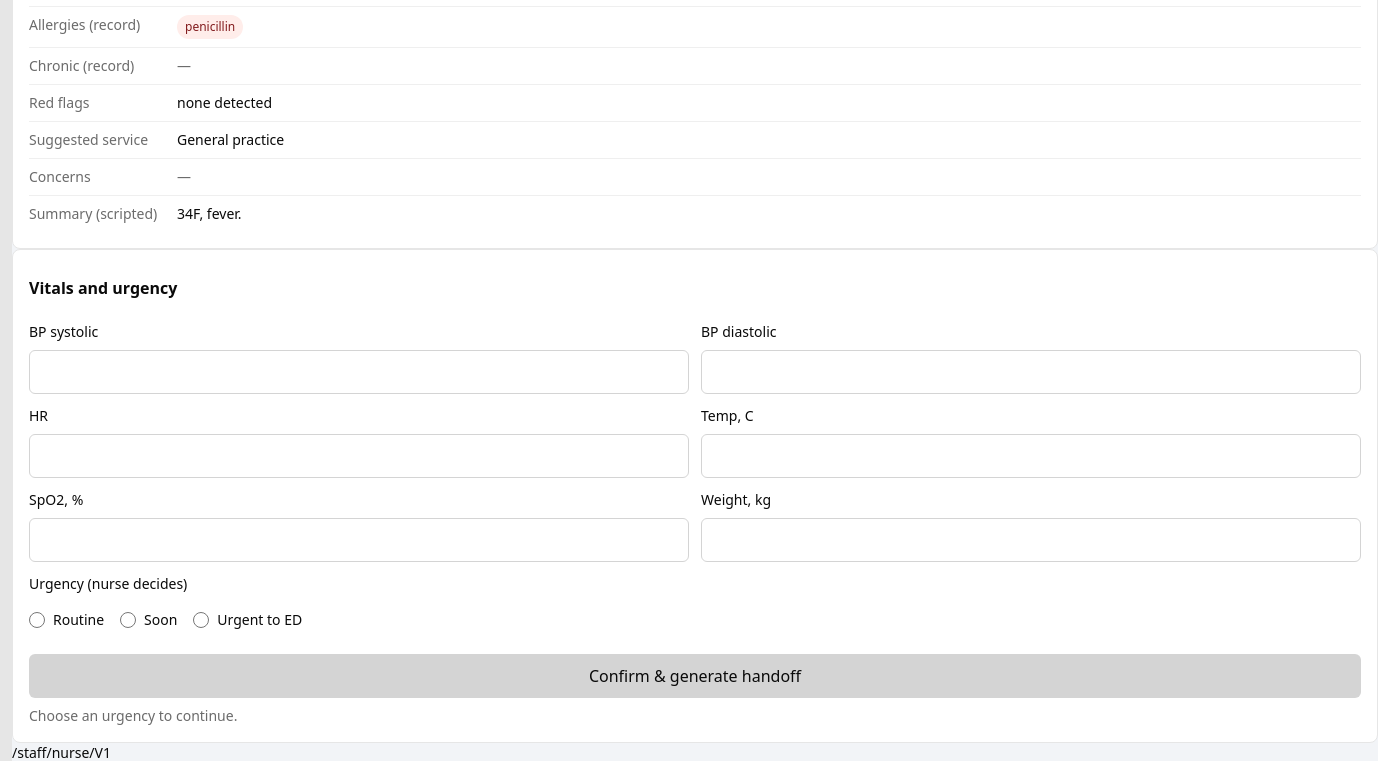
it: VitalsForm › with an edit left open on the intake card › holds the primary action and says why, then lets go on cancel
(page scrolled)
Click the radio button with test id "urgency-routine" at (37, 620), box [29, 612, 45, 628]
(page scrolled)
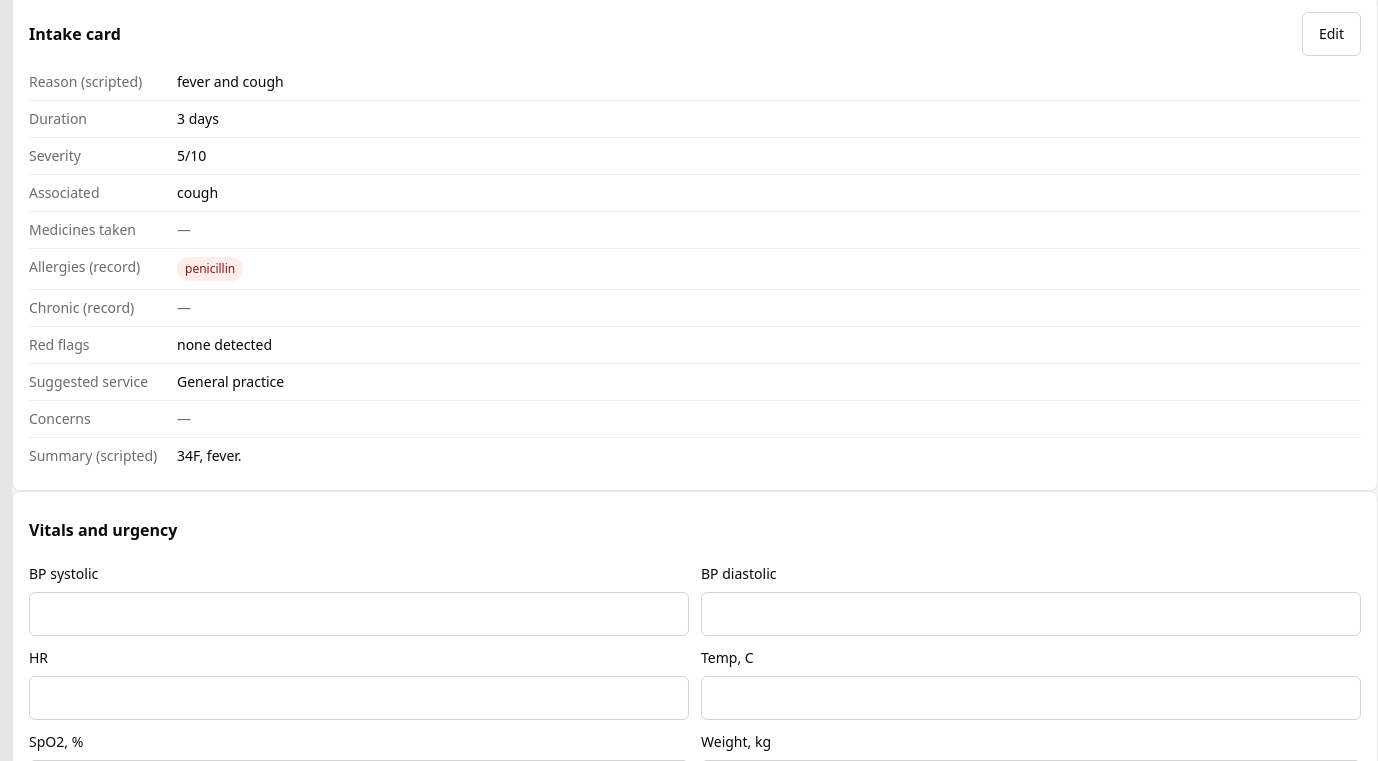
Click the button with test id "intake-edit" at (1331, 34), box [1302, 12, 1361, 56]
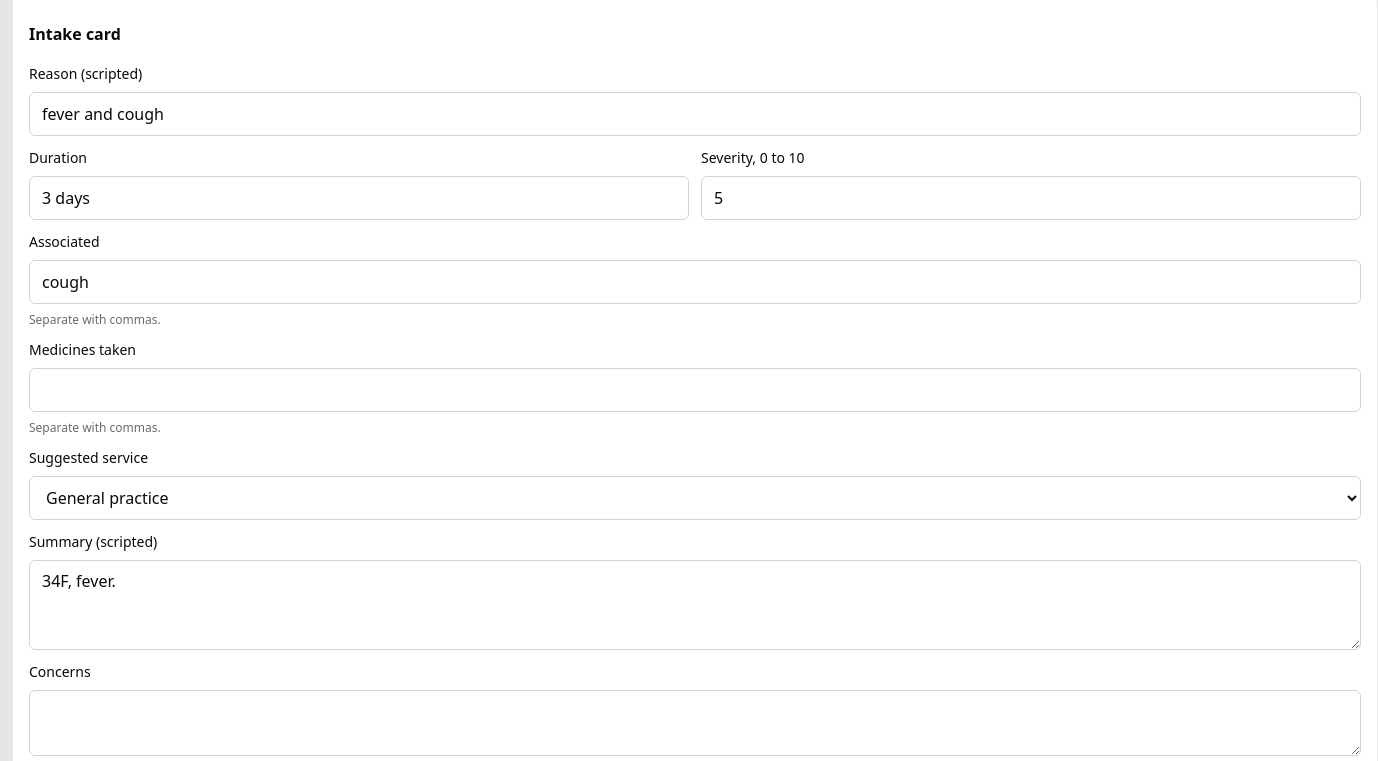
Replace the text in the field with test id "edit-chief_complaint" with "dry cough" at (695, 114), box [29, 92, 1361, 136]
(page scrolled)
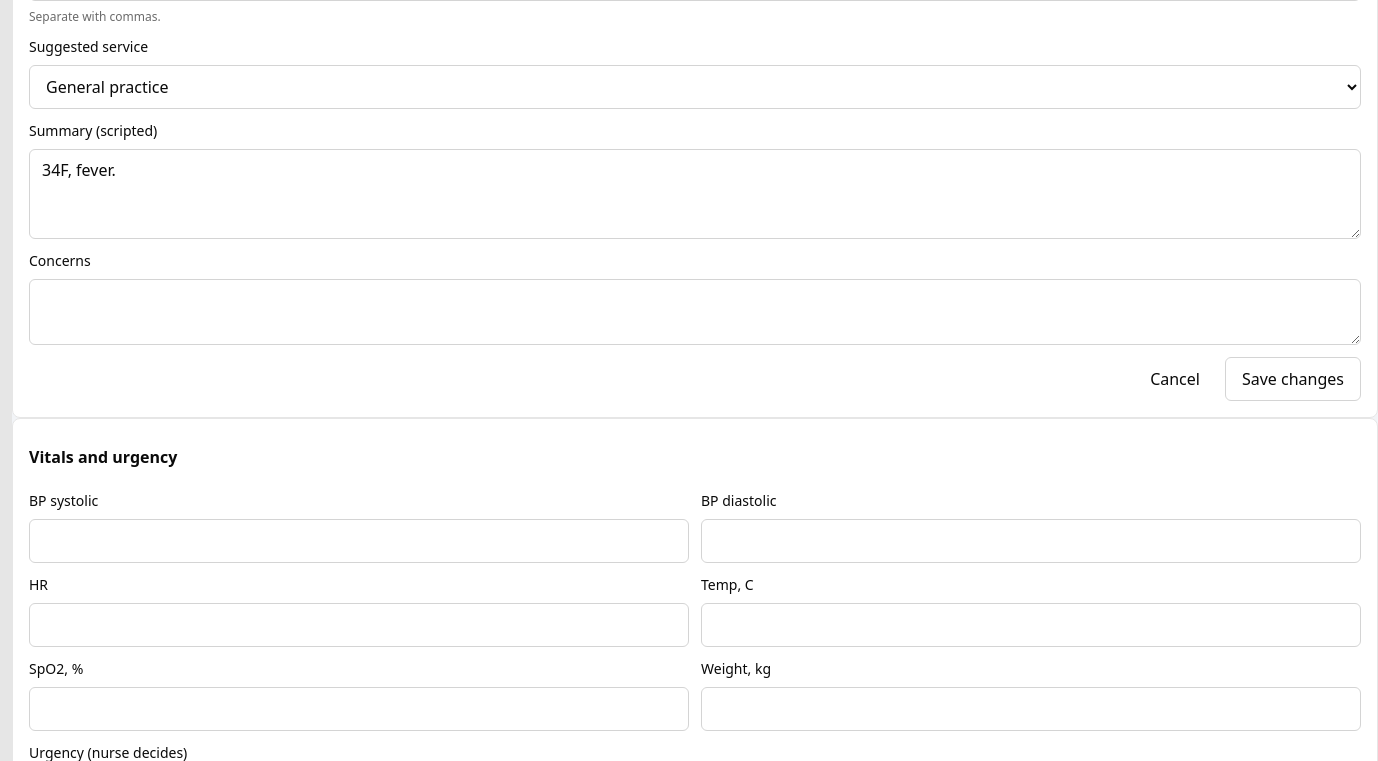
Click the button with test id "intake-cancel" at (1175, 379), box [1133, 357, 1217, 401]
(page scrolled)
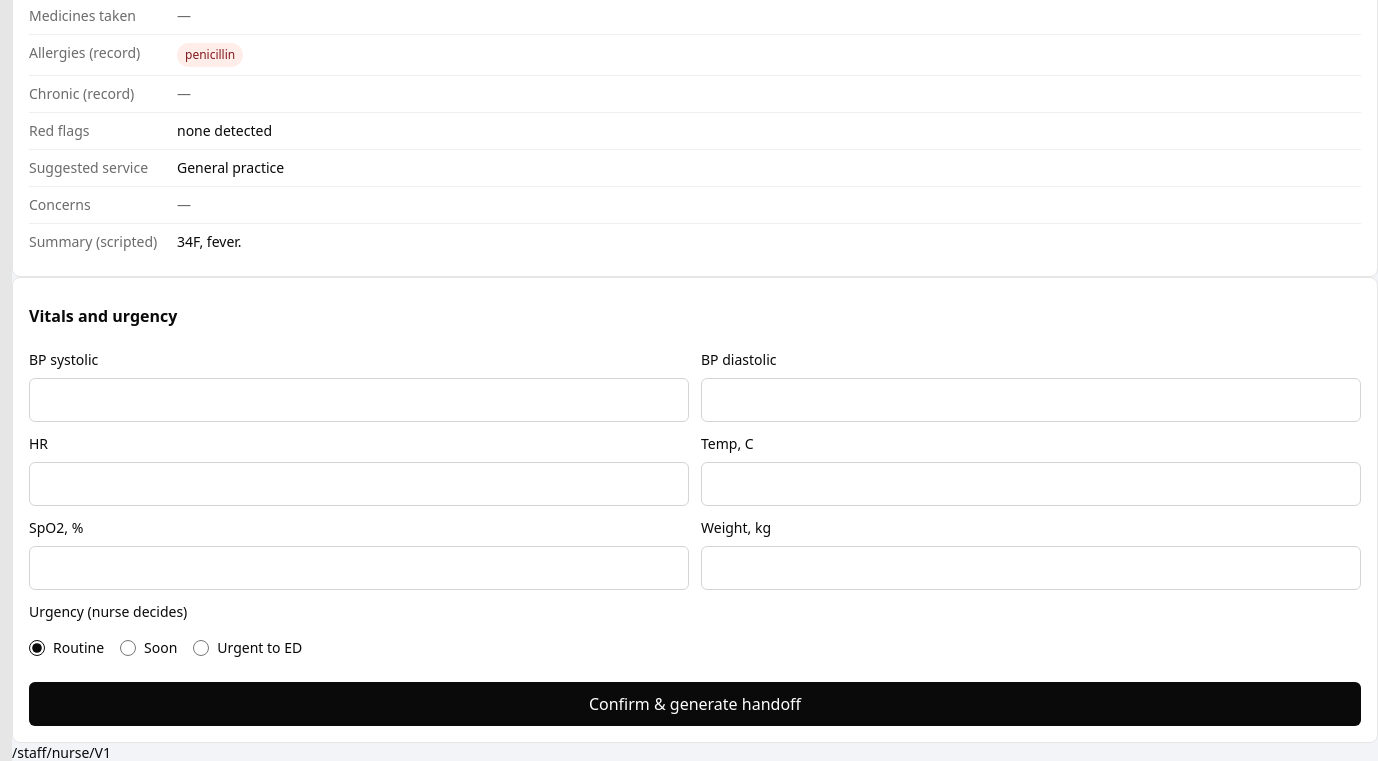
Result: the button with test id "vitals-submit" is enabled at [29, 682, 1361, 726]
